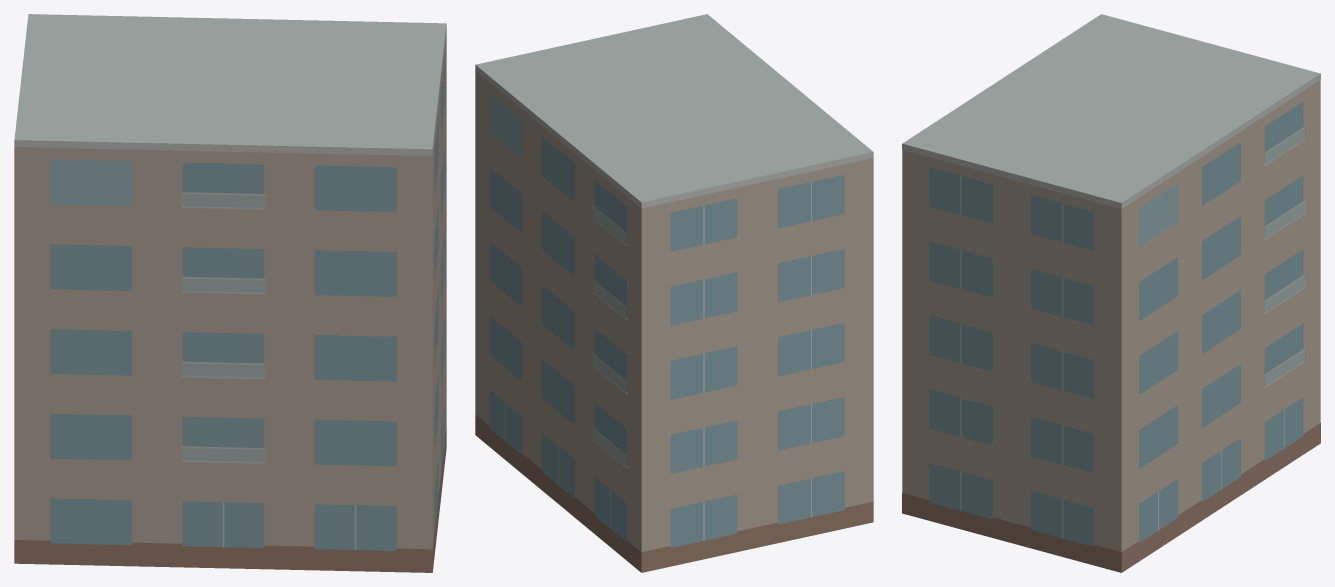
File: survey-upis-32780055.glb
3 views of the same model, side by side, from view 1: azimuth 30°, elevation 25°; view 2: azimuth 150°, elevation 25°; view 3: azimuth 270°, elevation 25° (orthographic). The views are drawn at different scales.
Visible parts, largest first — view 1: survey-upis-32780055.tmp; view 2: survey-upis-32780055.tmp; view 3: survey-upis-32780055.tmp.
Boxes of the visible parts, x1,y1,x2,y2 form: survey-upis-32780055.tmp: (14,14,446,572); survey-upis-32780055.tmp: (475,14,873,572); survey-upis-32780055.tmp: (902,14,1320,572).
Bounding box in the file's own units: 16.35 × 14.9 × 15.29.
